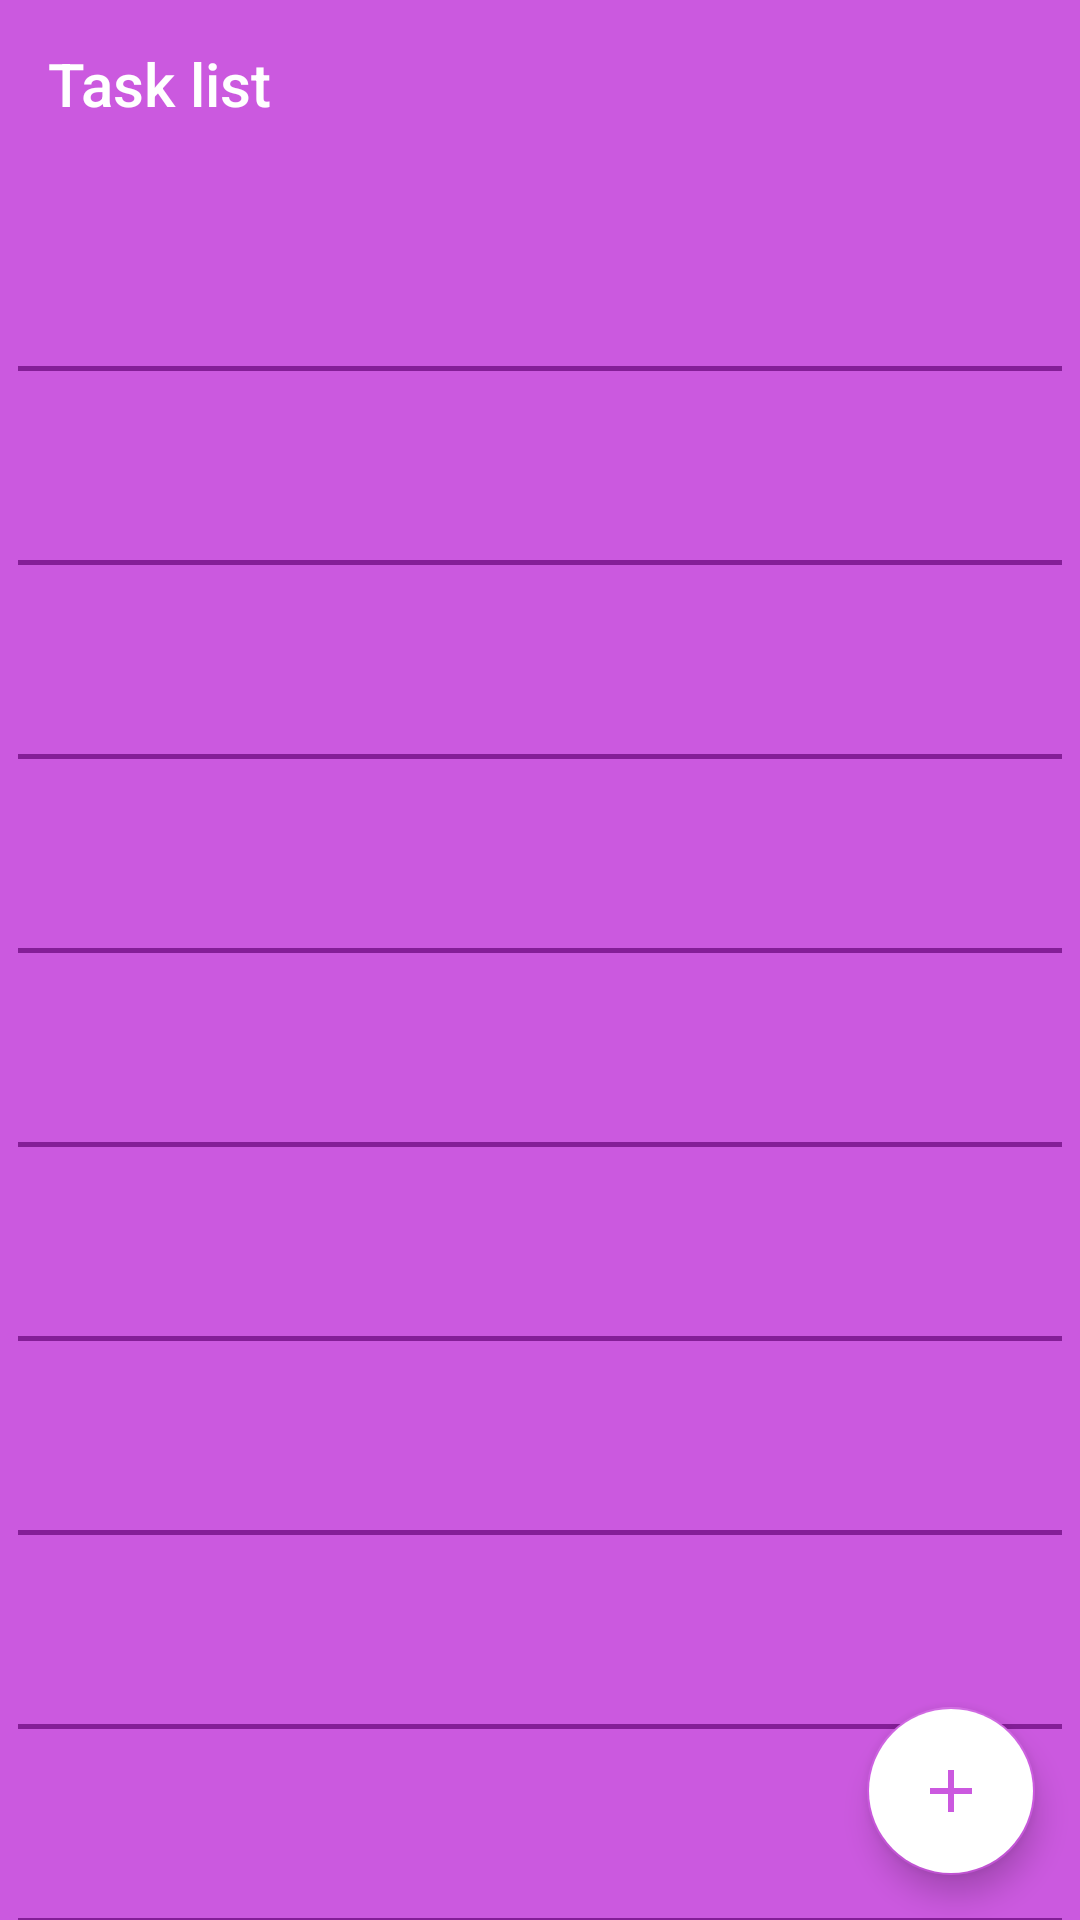

Where to tap for icons on this 1080 x 1920 app screen, as point (x, y):
add: point (951, 1791)
